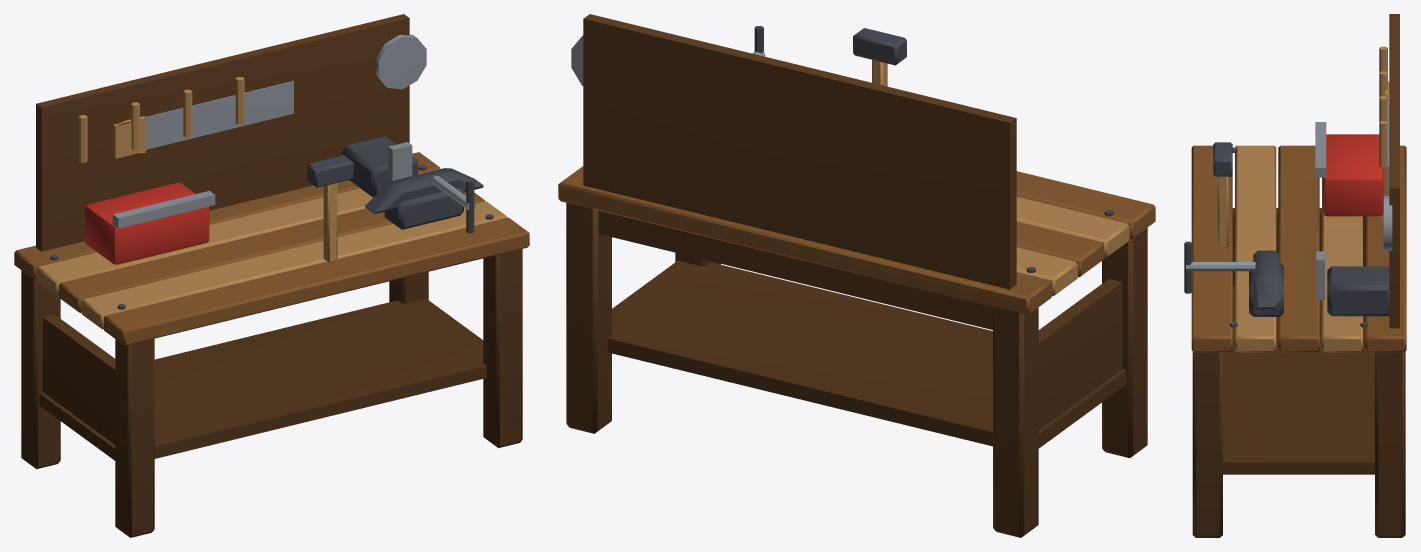
Rendered from bench.glb.
3 views of the same model, side by side, from view 1: azimuth 30°, elevation 25°; view 2: azimuth 150°, elevation 25°; view 3: azimuth 270°, elevation 25° (orthographic). The views are drawn at different scales.
Visible parts, largest first — view 1: bench, bench_craft, hammer; view 2: bench, hammer; view 3: bench, bench_craft, hammer.
Part boxes in pixels (box(x1,y1,x2,y2)): bench: box(14, 14, 529, 537); bench_craft: box(50, 77, 493, 309); hammer: box(307, 155, 353, 262); bench: box(558, 14, 1155, 537); hammer: box(853, 28, 906, 86); bench: box(1191, 14, 1406, 537); bench_craft: box(1184, 46, 1387, 327); hammer: box(1213, 142, 1232, 247).
Size of the model in its own units: 2.1 by 1.75 by 1.02.
